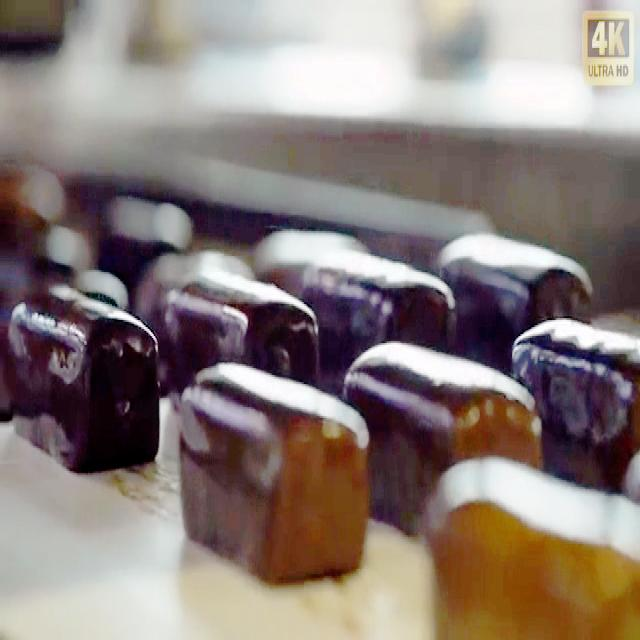Choco: (176, 356, 372, 583), (342, 334, 543, 534), (8, 279, 161, 473), (158, 260, 323, 426), (510, 311, 638, 491), (439, 218, 591, 356), (304, 243, 452, 379)
